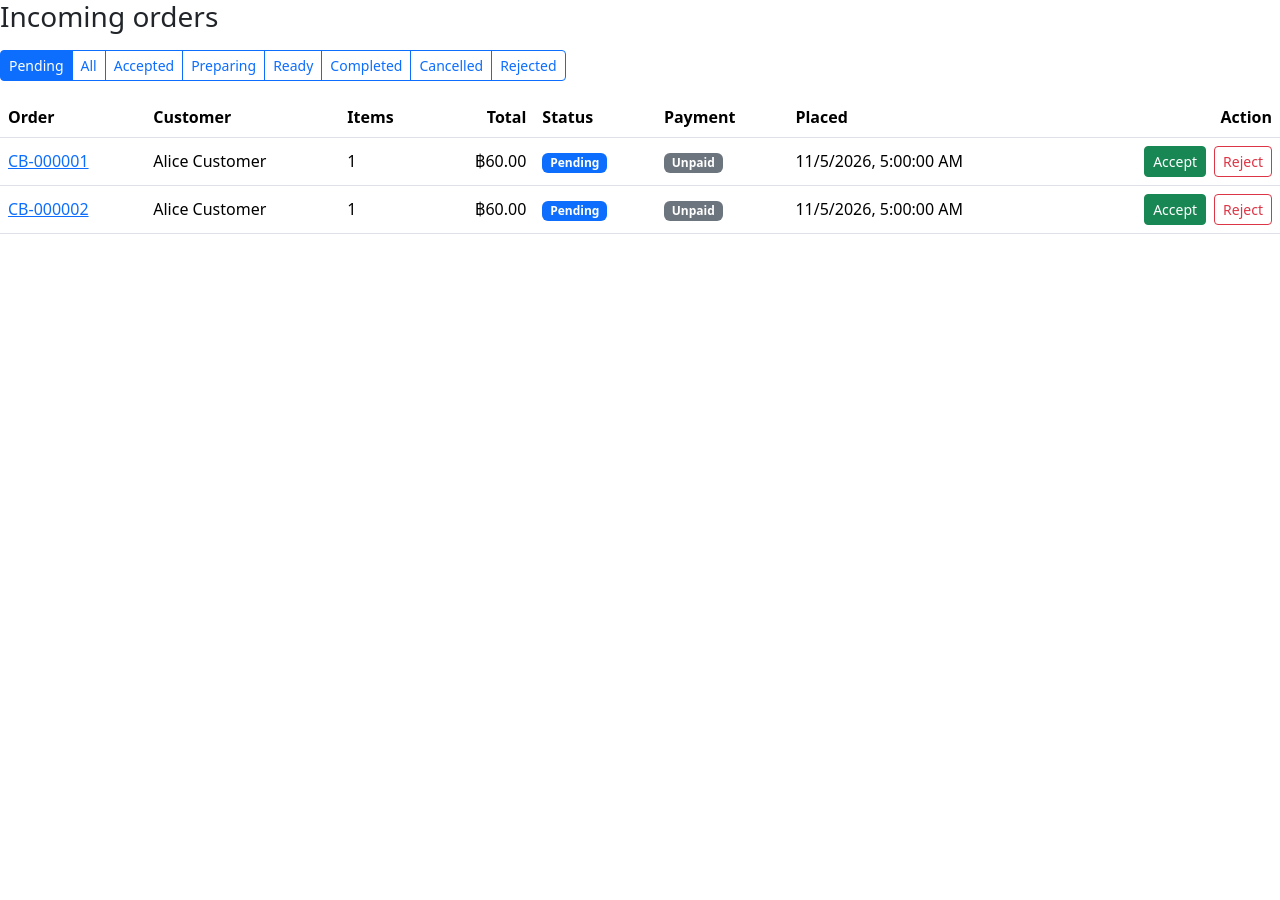
Test: OperatorOrders rejection (AC-102) › TEST-102: the dialog is named after the order, starts empty, and only one is open
Later steps or results of the test are not shown.
Click the button "Reject" in the row of "CB-000001" at (1243, 161), box top-left (1214, 146), bottom-right (1272, 177)
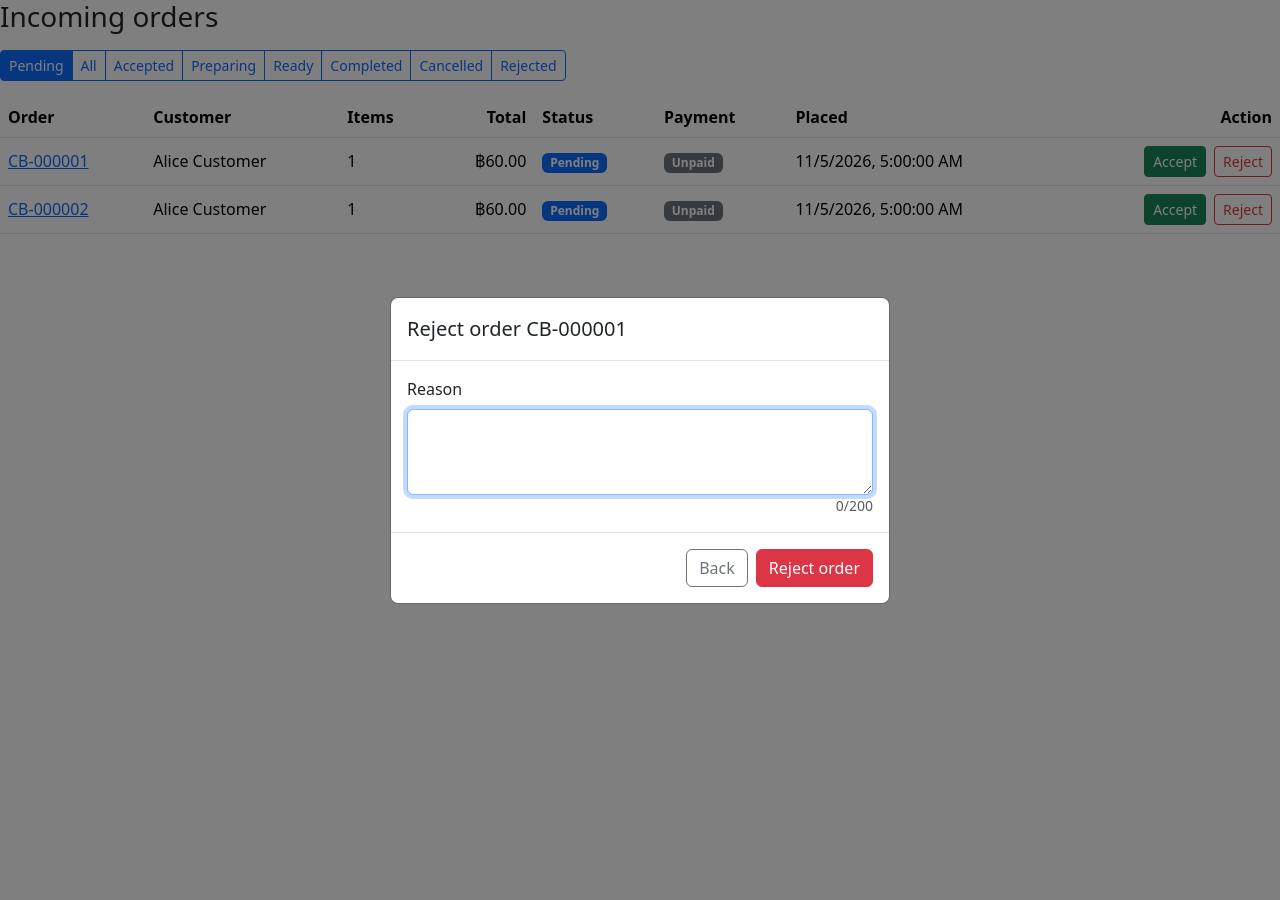
Result: the text "0/200" is shown at top-left (836, 496), bottom-right (873, 514)
Result: the button "Reject order" is enabled at top-left (756, 548), bottom-right (873, 586)
Result: the button "Back" is enabled at top-left (686, 548), bottom-right (748, 586)
